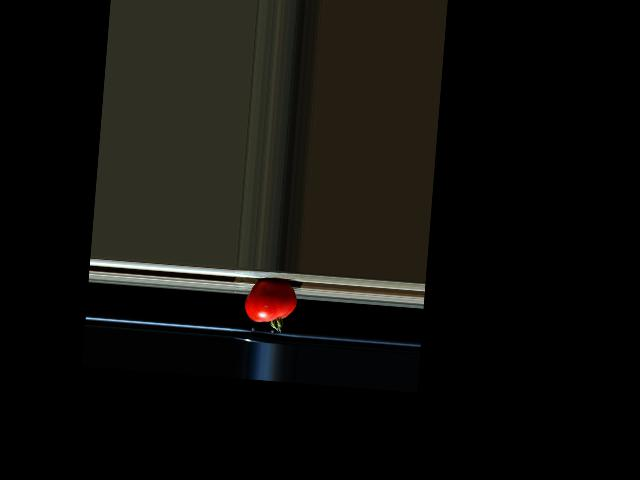tomato: (243, 277, 298, 333)
